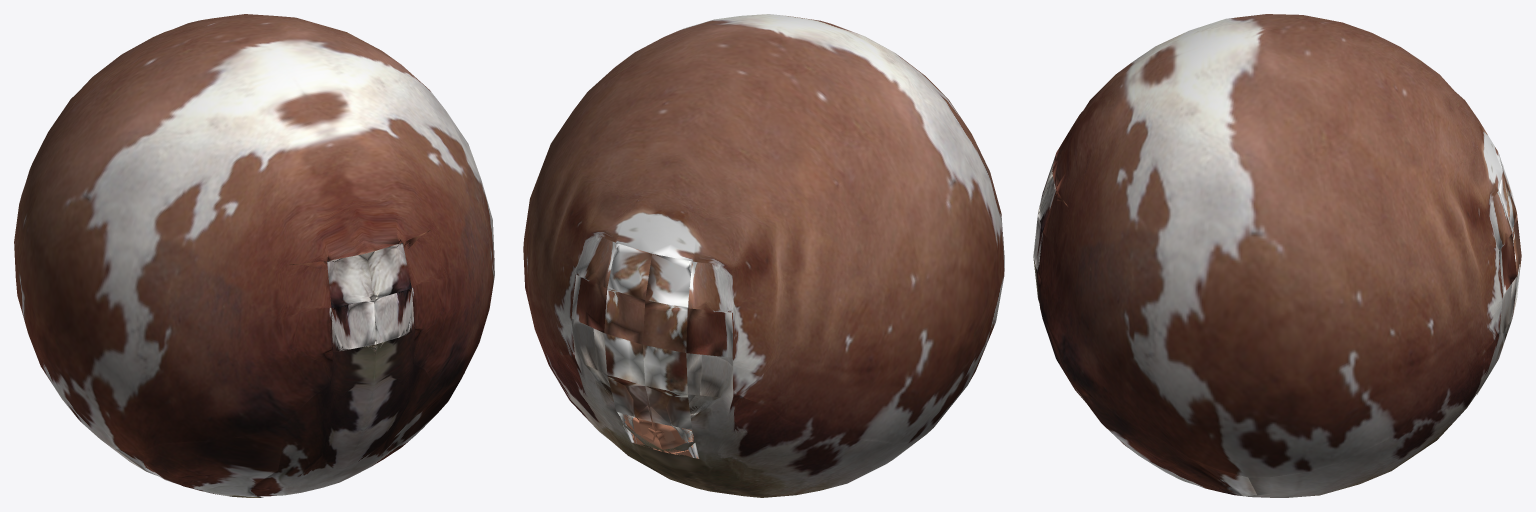
The model's file is cow-ball.glb.
The picture shows the model from 3 angles, left to right: view 1: azimuth 30°, elevation 25°; view 2: azimuth 150°, elevation 25°; view 3: azimuth 270°, elevation 25°; orthographic projection.
Visible parts, largest first — view 1: MorphSphere; view 2: MorphSphere; view 3: MorphSphere.
Boxes of the visible parts, x1=… form: MorphSphere: x1=14, y1=14, x2=494, y2=497; MorphSphere: x1=523, y1=14, x2=1004, y2=497; MorphSphere: x1=1033, y1=14, x2=1521, y2=497.
Size of the model in its own units: 9.72 by 9.79 by 9.85.
Materials: 1 (1 with a texture image).
